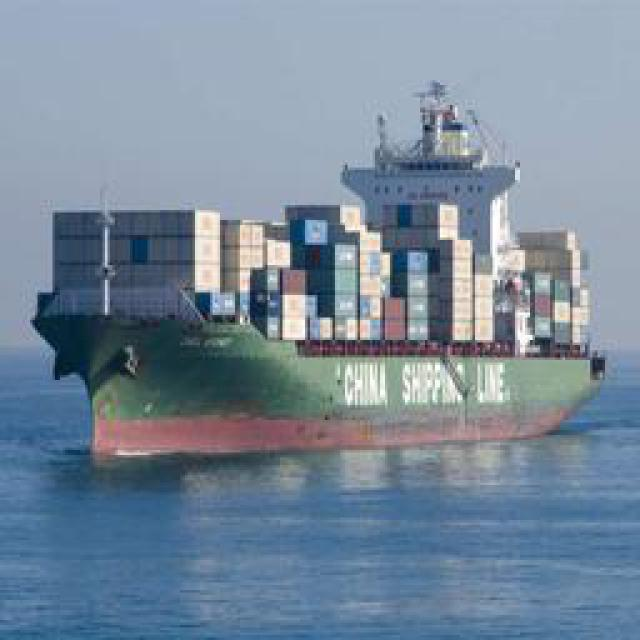Ship: (31, 102, 600, 458)
